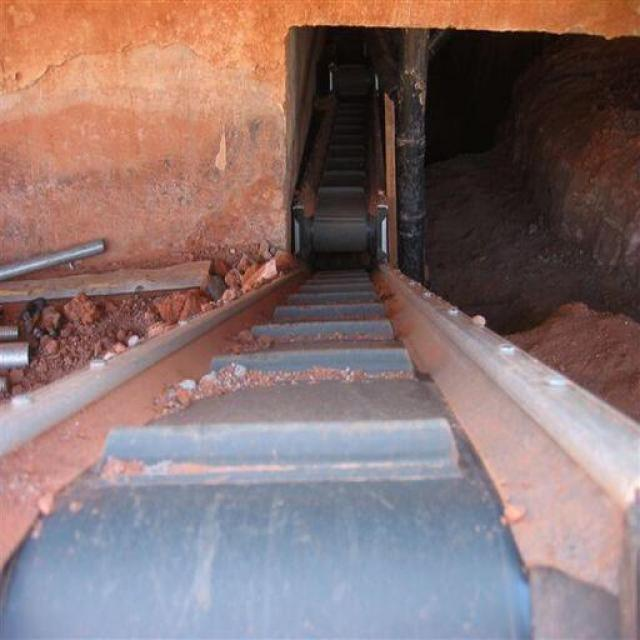conveyor: (0, 252, 640, 640), (277, 81, 404, 251)
